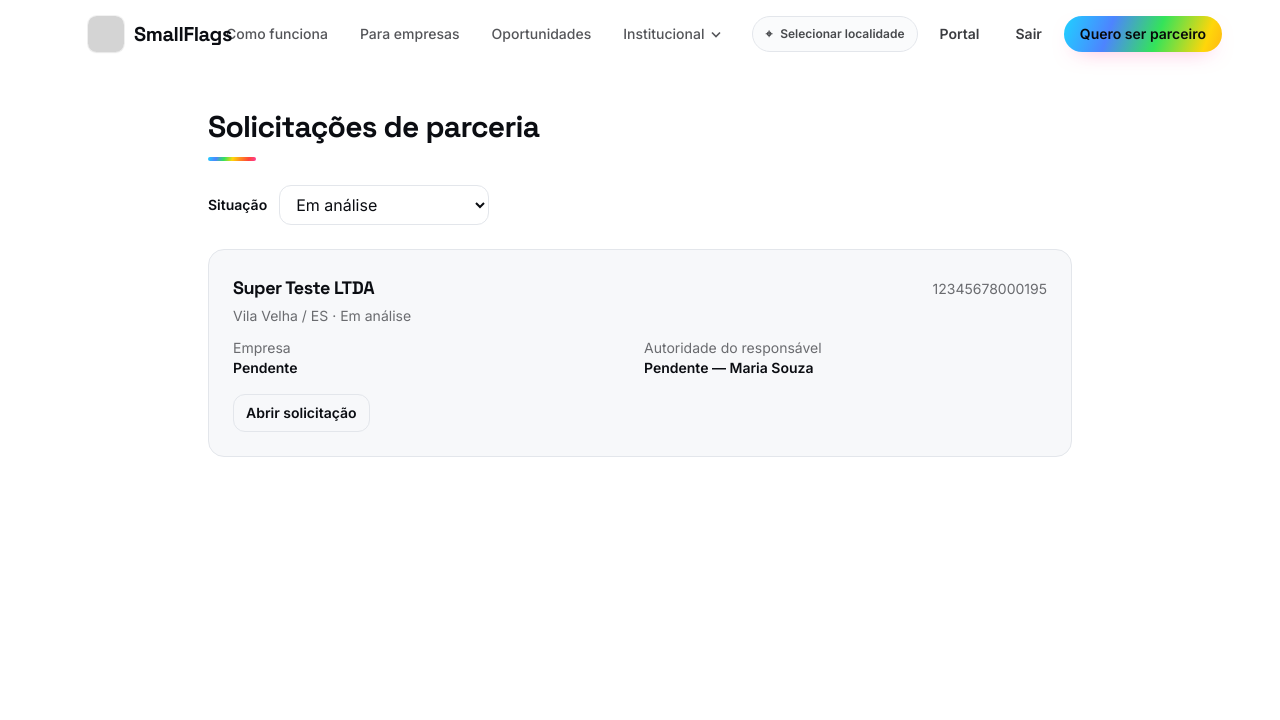
Test: B10 — acoes de analise › invariante do backend e respeitada: erro vira mensagem segura
Click the button "Abrir solicitação" at (301, 413), box x1=233 y1=394 x2=370 y2=432
(page scrolled)
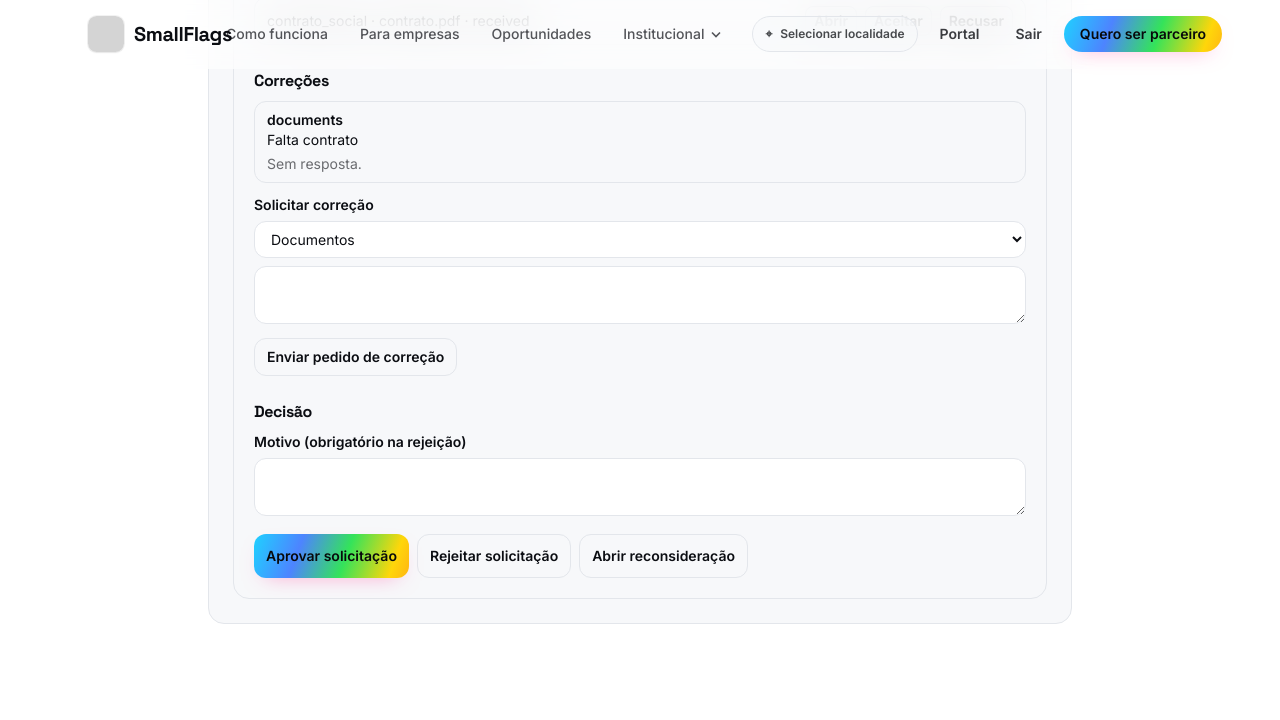
Click the button "Aprovar solicitação" at (331, 556), box x1=254 y1=534 x2=409 y2=578
(page scrolled)
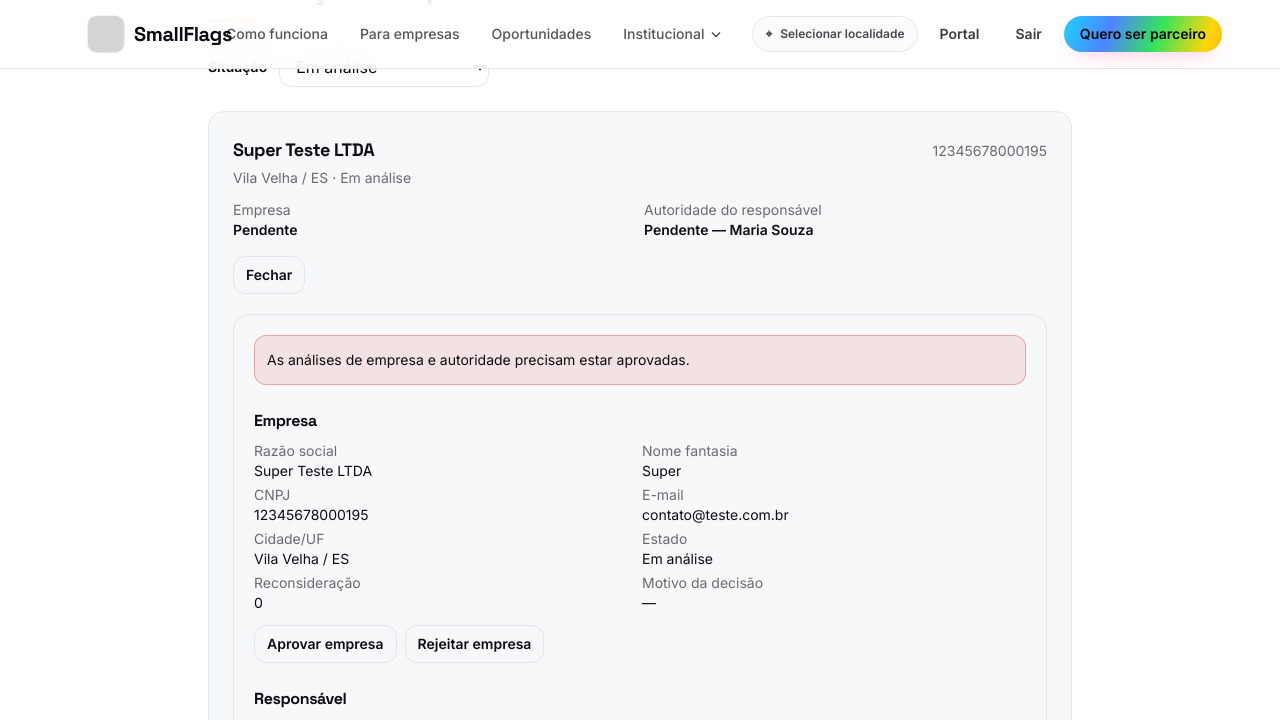
Expected: the text "As análises de empresa e autoridade precisam estar aprovadas." is shown, x1=254 y1=335 x2=1026 y2=385
